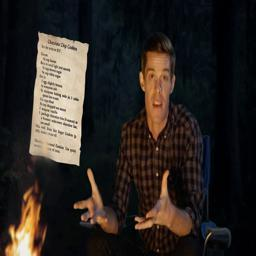fire: (5, 183, 47, 256)
